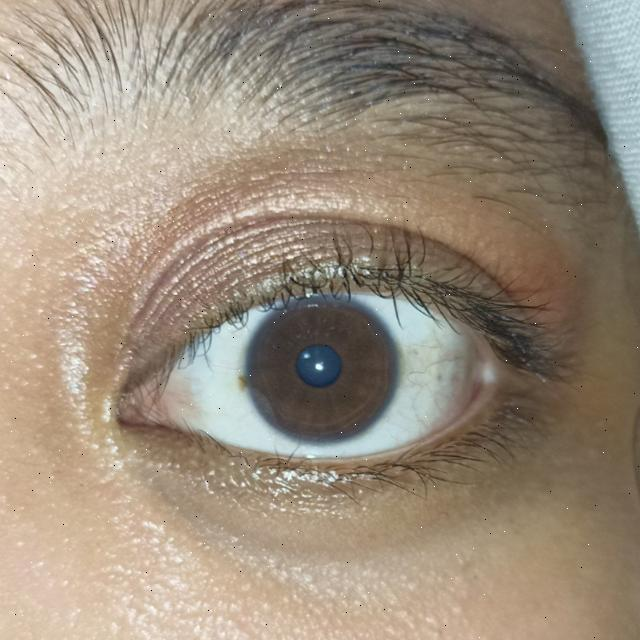Normal: (242, 293, 403, 448)
